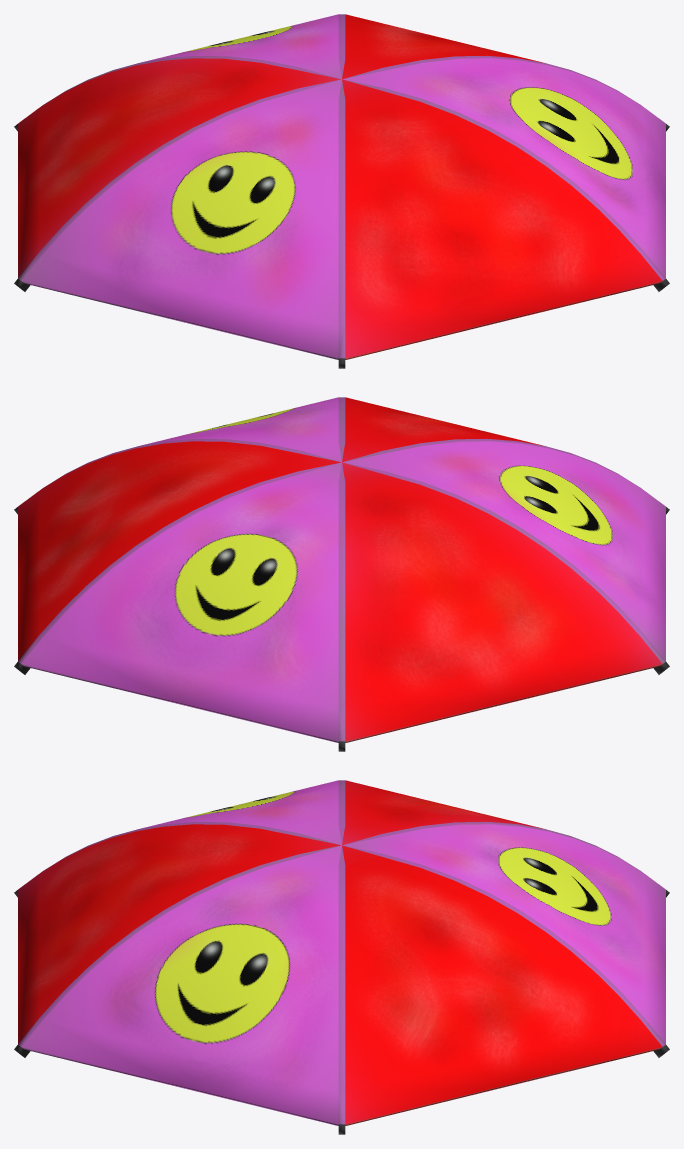
File: Umbrella_FoldAnim.fbx
3 views of the same model, one above another, from view 1: azimuth 30°, elevation 25°; view 2: azimuth 150°, elevation 25°; view 3: azimuth 270°, elevation 25° (orthographic).
Visible parts, largest first — view 1: Fold; view 2: Fold; view 3: Fold.
Boxes of the visible parts, bbox=[...] form: Fold: bbox=[14, 14, 669, 368]; Fold: bbox=[14, 397, 669, 751]; Fold: bbox=[14, 780, 669, 1134].
Size of the model in its own units: 16.39 by 3.21 by 14.27.
